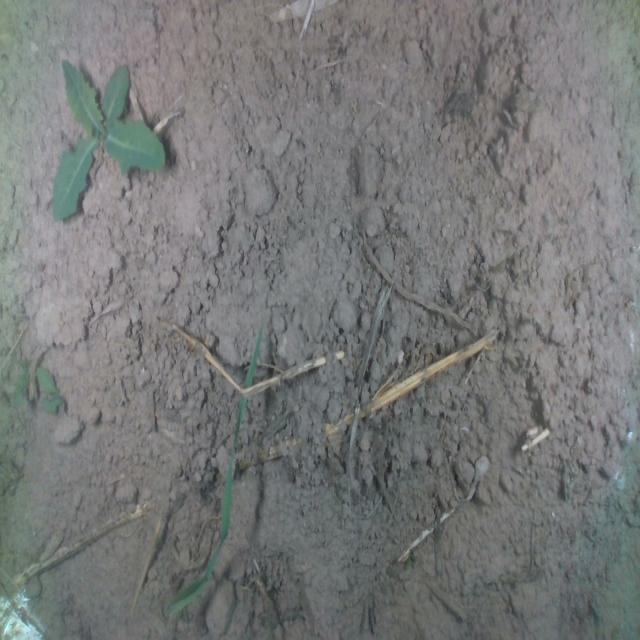weed: (51, 57, 168, 222)
